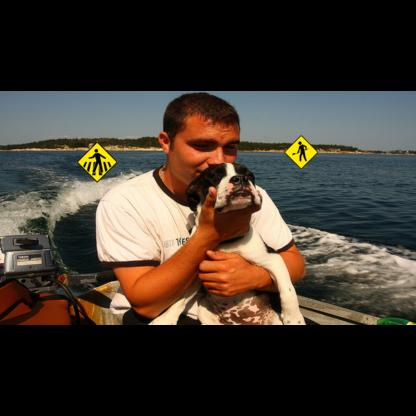A-24: (284, 135, 318, 170)
A-32b: (76, 141, 118, 183)
